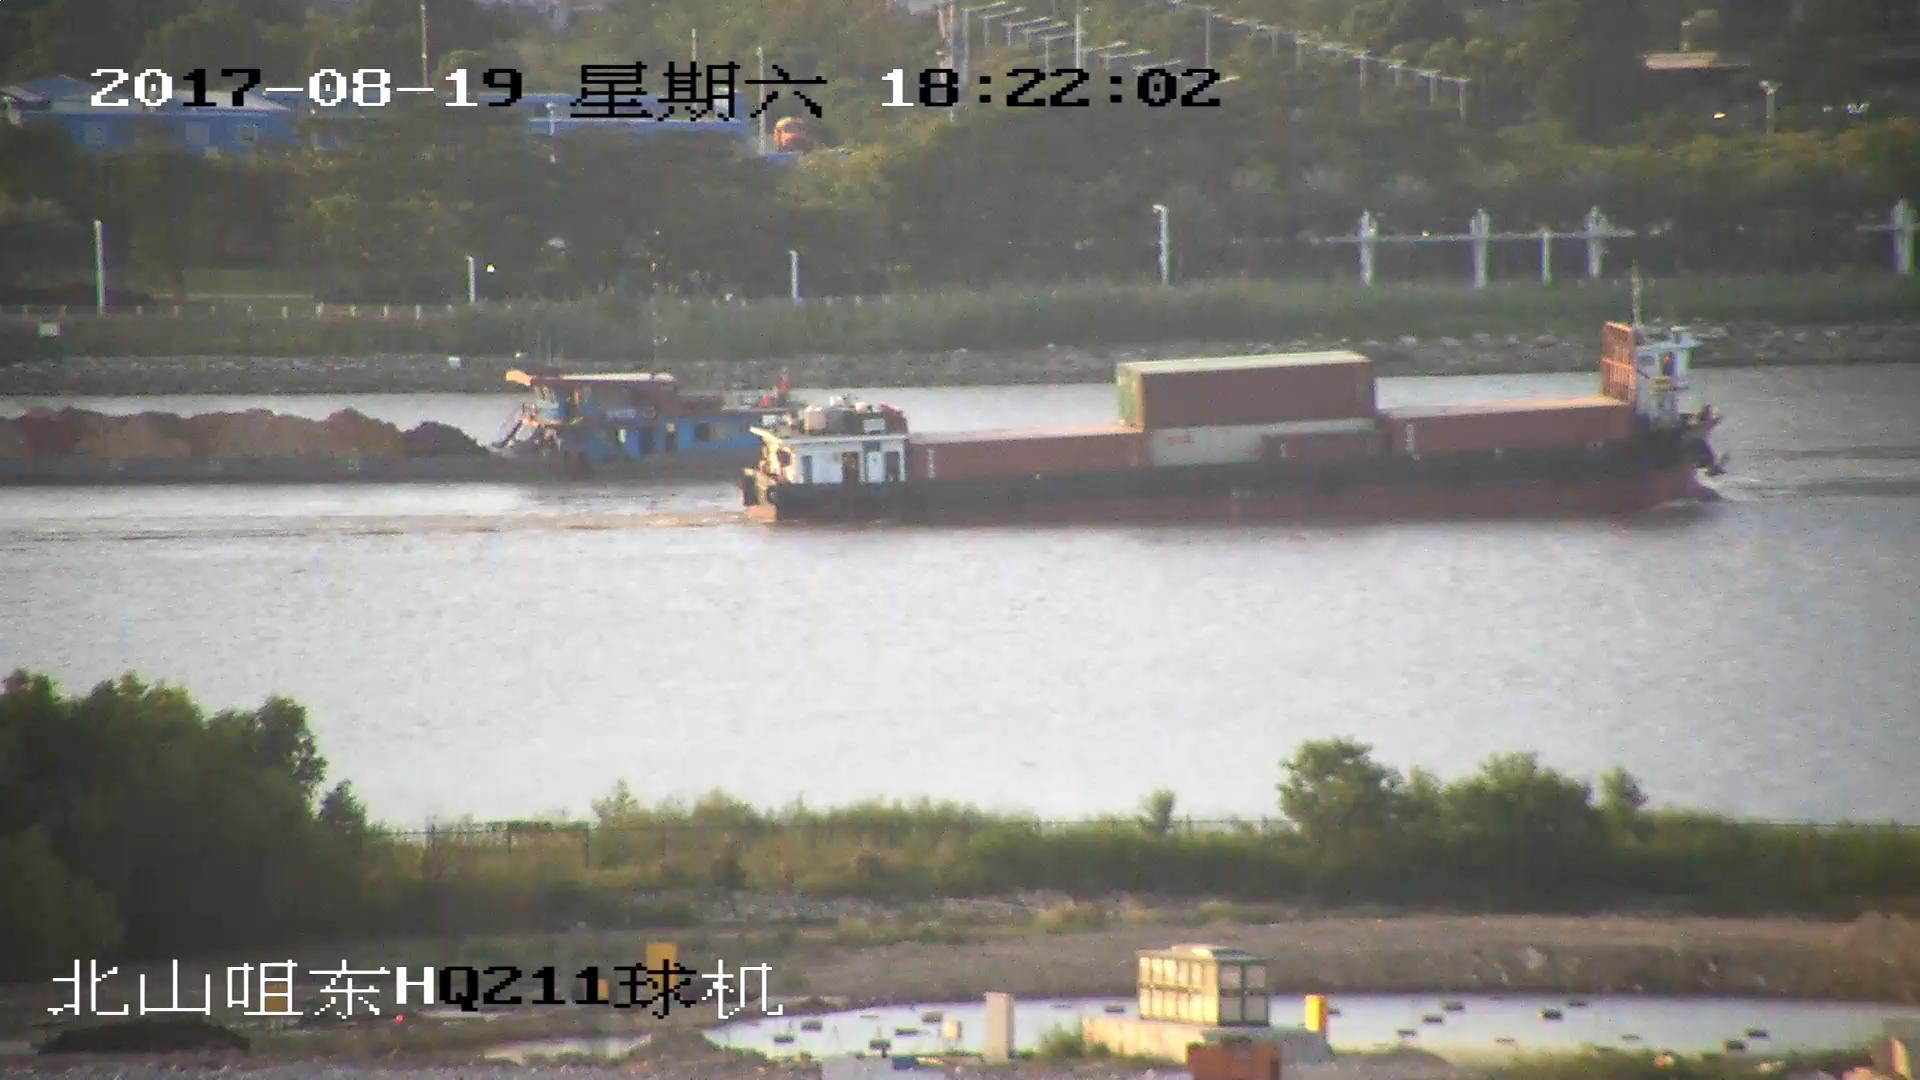Ship: (745, 306, 1727, 527), (3, 361, 738, 477)
